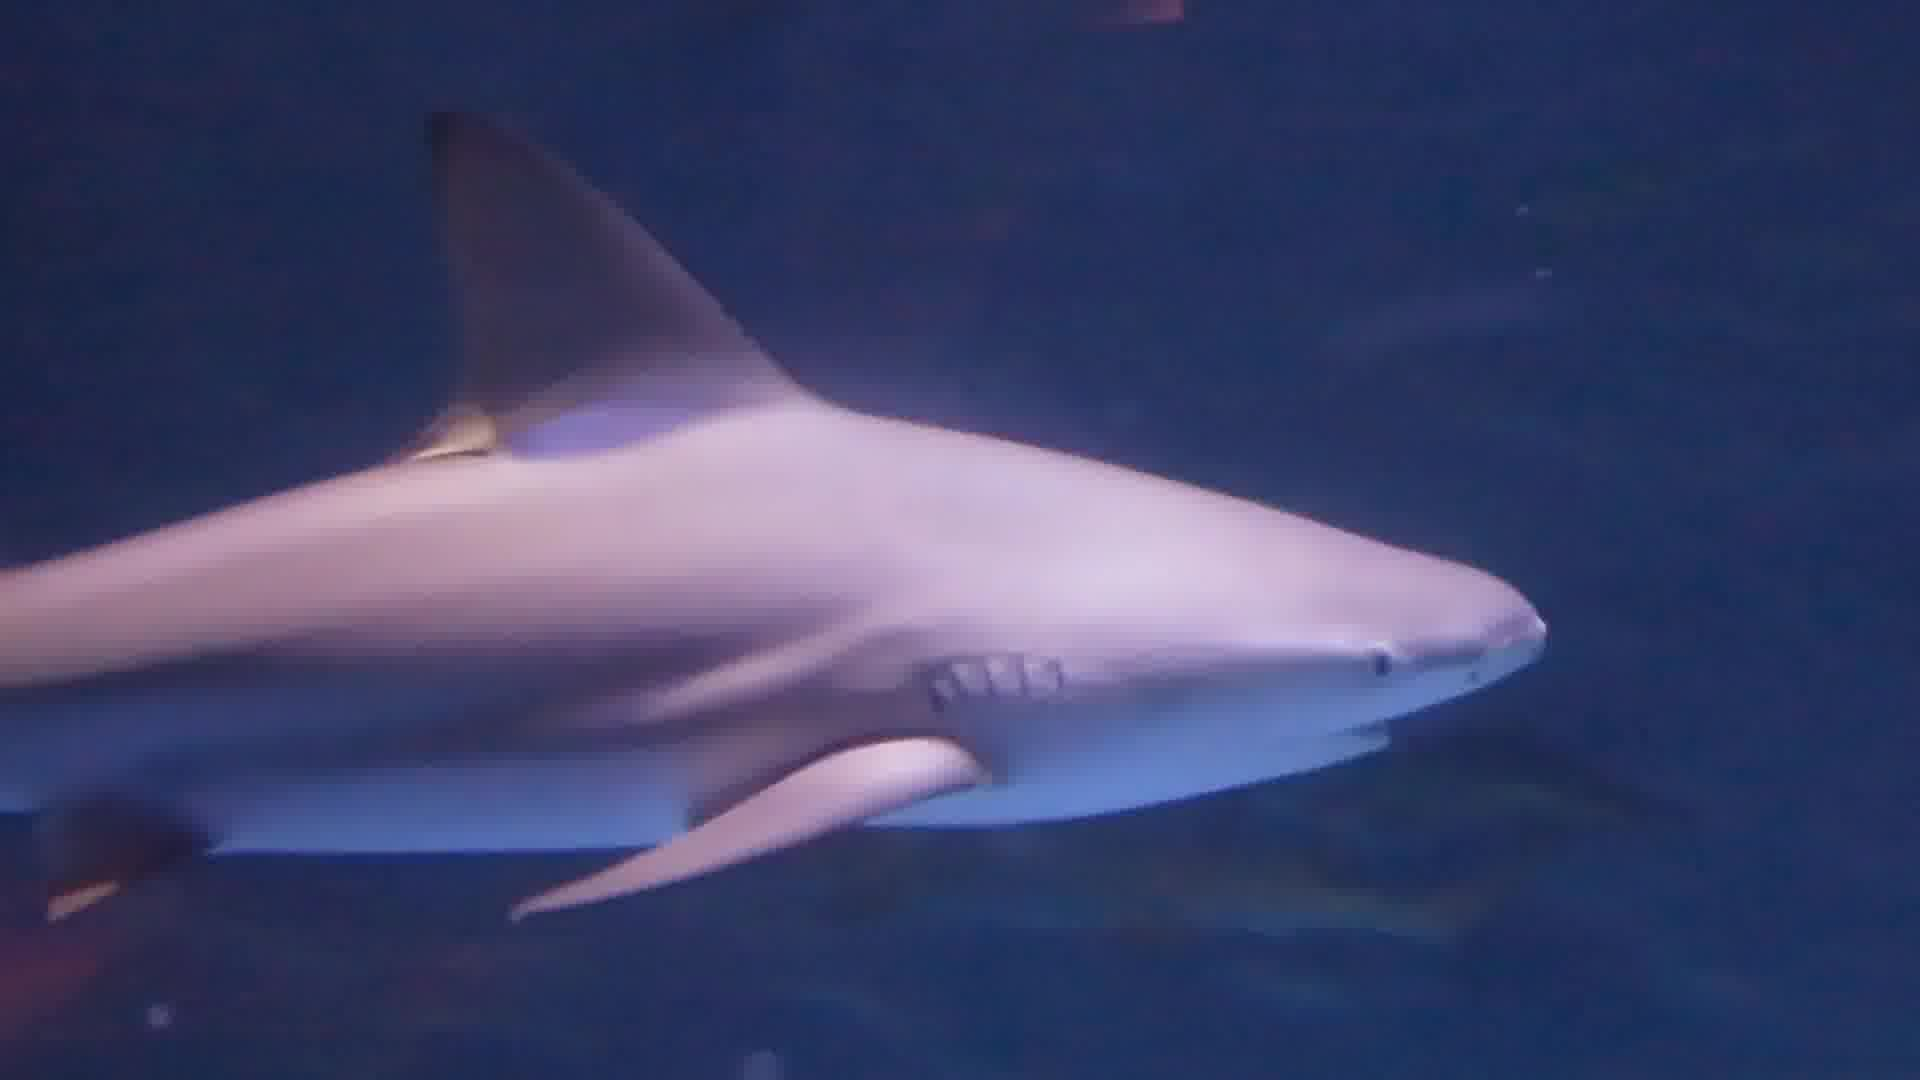Carcharhinus leucas: (1, 65, 1569, 909)
